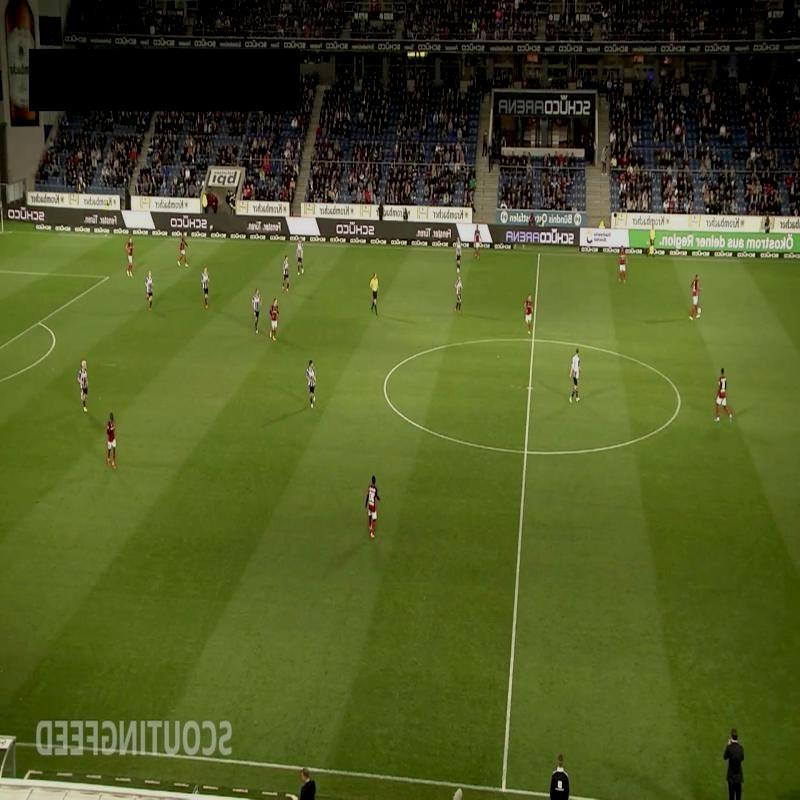1: (0, 224, 6, 239)
10: (32, 316, 46, 330)
13: (532, 247, 546, 261)
14: (526, 332, 540, 346)
15: (517, 442, 533, 460)
16: (497, 784, 511, 798)
9: (101, 270, 115, 284)
c: (670, 389, 690, 414), (378, 376, 392, 390)
